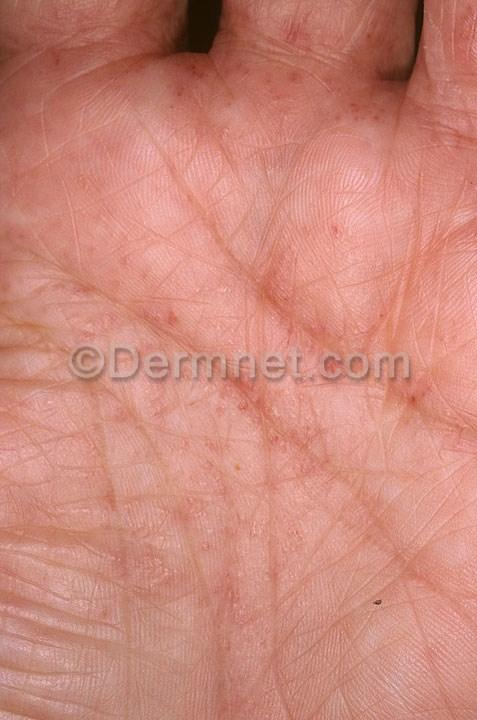Eczema: (236, 20, 385, 79), (14, 22, 155, 78), (396, 377, 438, 455), (122, 307, 209, 343)
